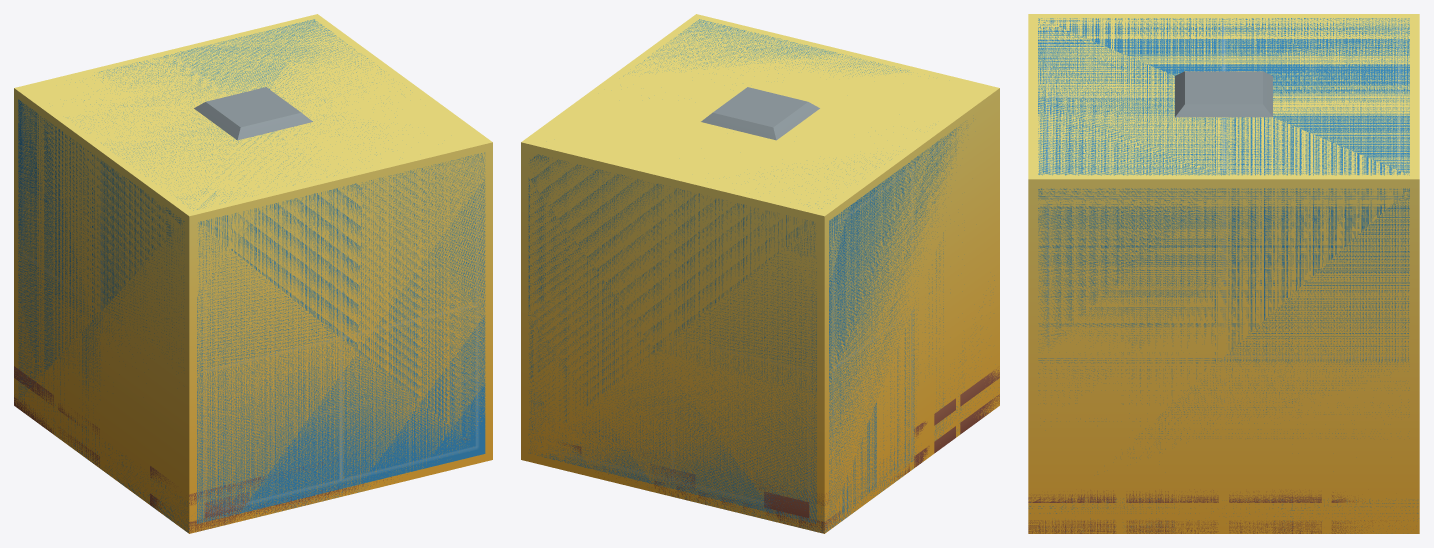
File: proto.glb
3 views of the same model, side by side, from view 1: azimuth 30°, elevation 25°; view 2: azimuth 150°, elevation 25°; view 3: azimuth 270°, elevation 25° (orthographic). The views are drawn at different scales.
Parts seen in each view (by area): view 1: Primitive_Cube, Cube_Prototype_Large_A, Primitive_Slope, Pallet_Large, Pillar_B, Primitive_Beam, Floor_Prototype; view 2: Primitive_Cube, Cube_Prototype_Large_A, Primitive_Slope, Pallet_Large, Pillar_B, Primitive_Beam, Floor_Prototype; view 3: Primitive_Cube, Cube_Prototype_Large_A, Primitive_Beam, Pallet_Large, Pillar_B, Pillar_A.
Boxes of the visible parts, x1,y1,x2,y2 form: Primitive_Cube: [14, 14, 492, 533]; Cube_Prototype_Large_A: [18, 19, 485, 523]; Primitive_Slope: [14, 88, 382, 533]; Pallet_Large: [14, 366, 467, 532]; Pillar_B: [194, 87, 312, 140]; Primitive_Beam: [88, 384, 123, 483]; Floor_Prototype: [48, 403, 370, 531]; Primitive_Cube: [521, 14, 999, 533]; Cube_Prototype_Large_A: [528, 19, 994, 523]; Primitive_Slope: [529, 230, 809, 491]; Pallet_Large: [558, 369, 999, 532]; Pillar_B: [701, 87, 819, 140]; Primitive_Beam: [908, 374, 934, 469]; Floor_Prototype: [657, 388, 990, 533]; Primitive_Cube: [1028, 14, 1419, 533]; Cube_Prototype_Large_A: [1038, 18, 1409, 458]; Primitive_Beam: [1175, 445, 1272, 533]; Pallet_Large: [1028, 489, 1396, 533]; Pillar_B: [1175, 71, 1272, 117]; Pillar_A: [1204, 79, 1243, 95].
Size of the model in its own units: 4 by 4.6 by 4.
Materials: 1 (1 with a texture image).
